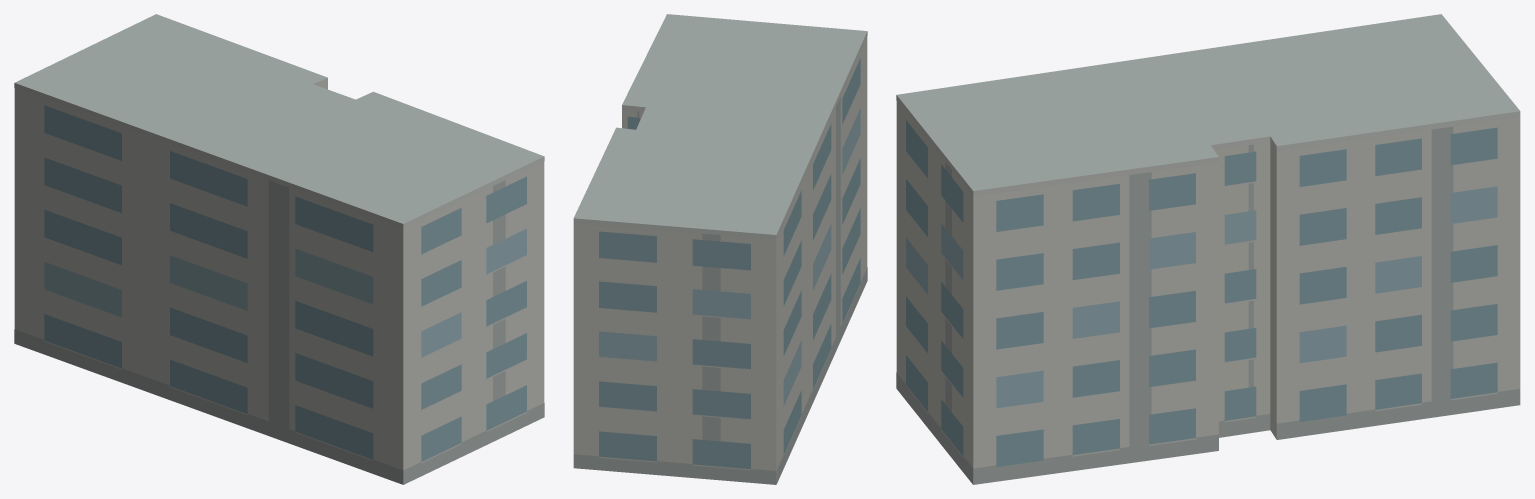
The model's file is survey-upis-32571417.glb.
3 renders of one model, left to right at view 1: azimuth 30°, elevation 25°; view 2: azimuth 150°, elevation 25°; view 3: azimuth 270°, elevation 25°, orthographic. The views are drawn at different scales.
Parts seen in each view (by area): view 1: survey-upis-32571417.tmp; view 2: survey-upis-32571417.tmp; view 3: survey-upis-32571417.tmp.
Boxes of the visible parts, box(x1,y1,x2,y2) form: survey-upis-32571417.tmp: box(14, 14, 544, 484); survey-upis-32571417.tmp: box(573, 14, 867, 484); survey-upis-32571417.tmp: box(896, 14, 1520, 484).
Size of the model in its own units: 16.36 by 12.65 by 24.35.
